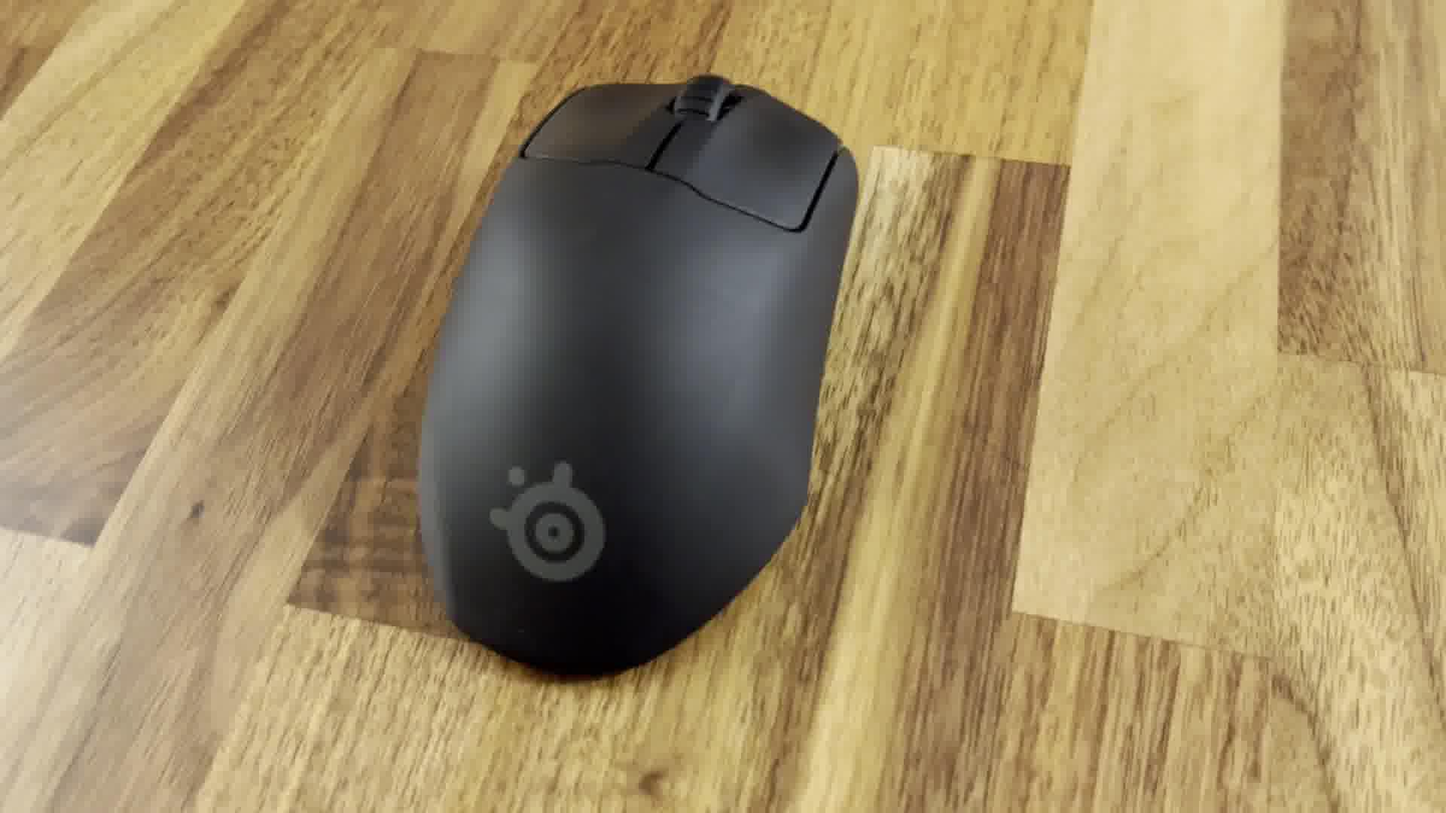mouse: (416, 66, 863, 680)
